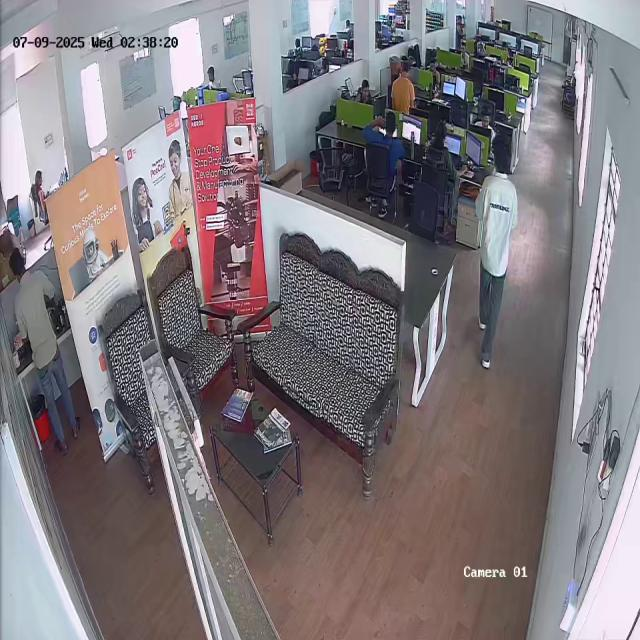person: (3, 249, 80, 445), (475, 135, 523, 369), (368, 110, 408, 190), (427, 121, 463, 191), (387, 61, 416, 110), (31, 170, 52, 210), (477, 114, 495, 132)
